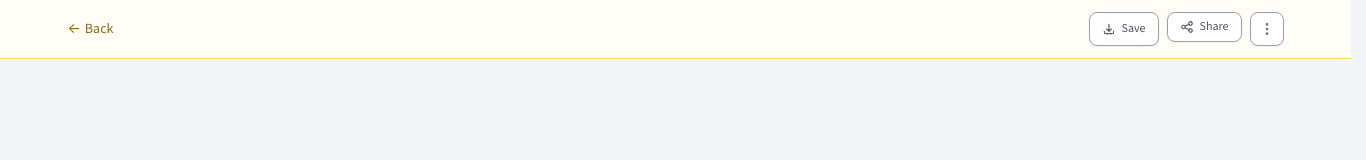
CaseHeader › Delete button (in overflow menu) › should show delete option when overflow menu is clicked
Click the button named "more options".
click(1266, 29)  # box [1250,12,1284,46]
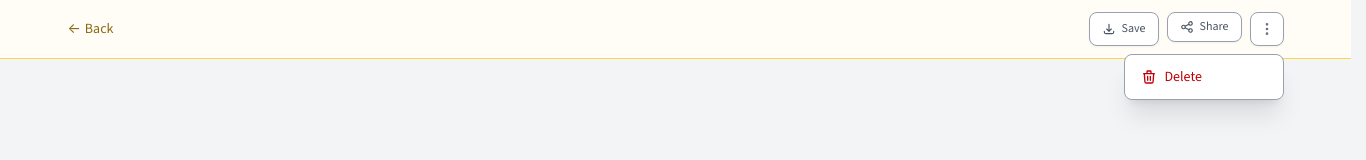
Result: the button "Delete" is shown at [1124,59,1282,95]
